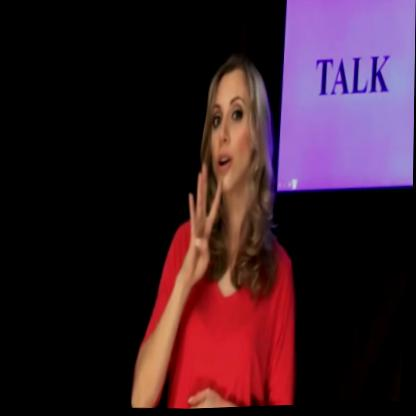Talk: (176, 48, 286, 304)
